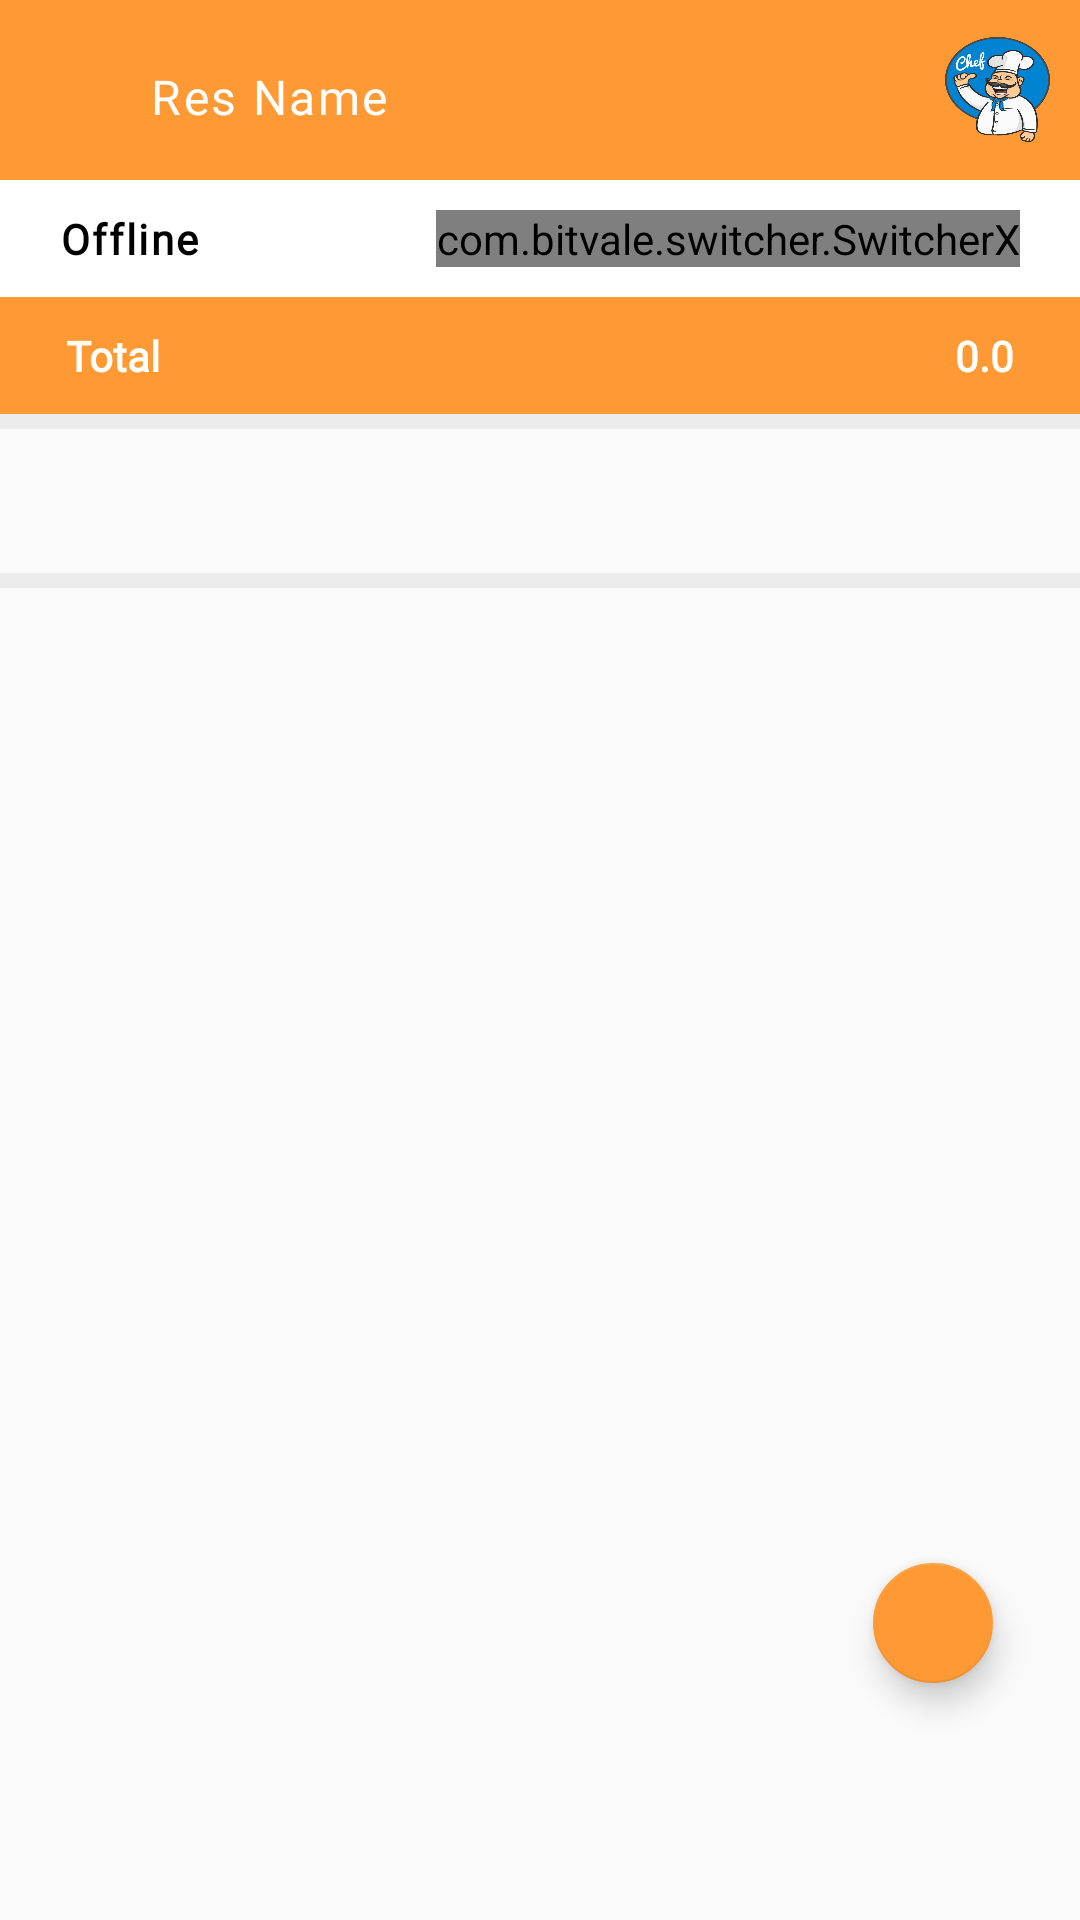

Icons on this 1080w x 1920h Android screen, each with its box as {"x1": x1, "y1": y1, "x2": x2, "y2": y2}:
kitchen: {"x1": 945, "y1": 37, "x2": 1050, "y2": 142}
